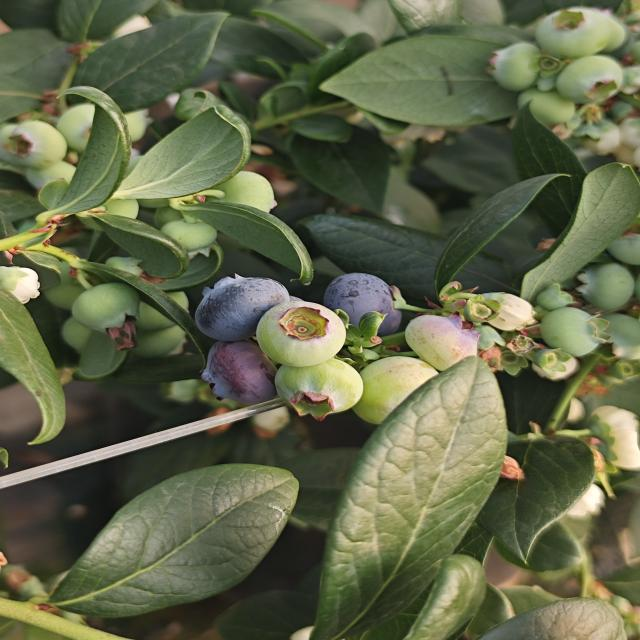ripe: (192, 272, 292, 344), (321, 271, 404, 338), (198, 339, 278, 407)
